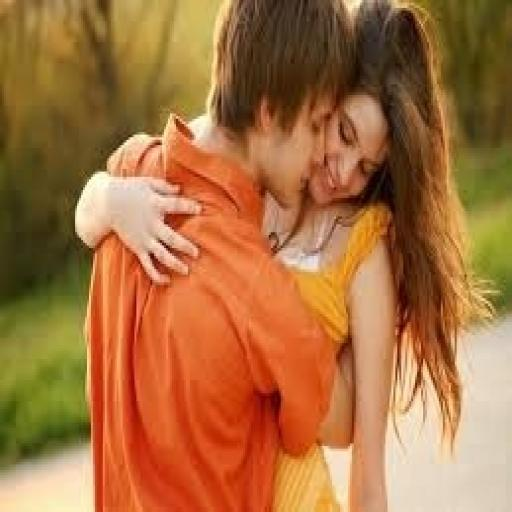hugging: (73, 0, 496, 509)
